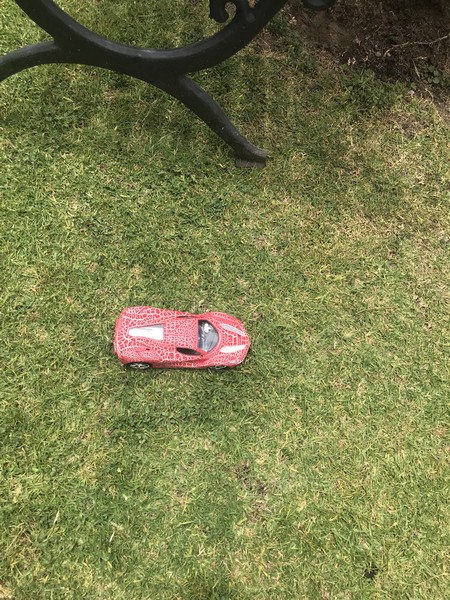RC: (111, 305, 252, 372)
